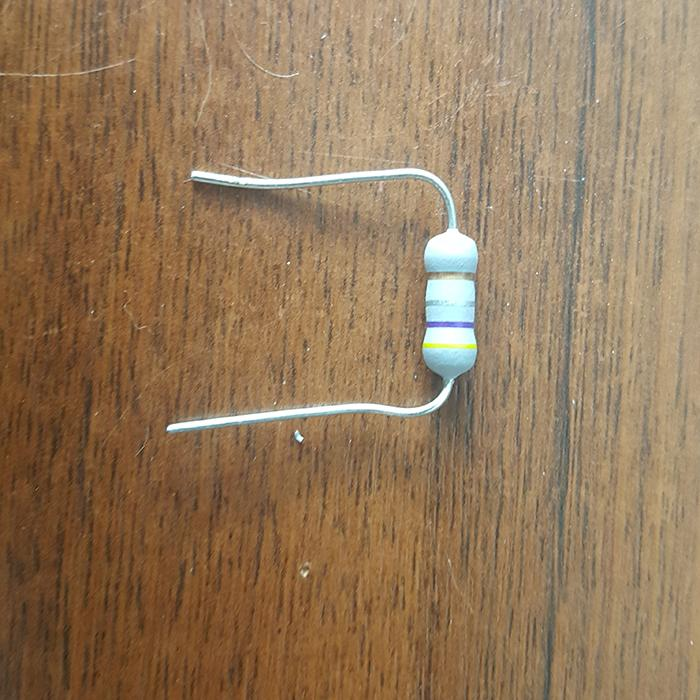resistor: (423, 227, 479, 380)
